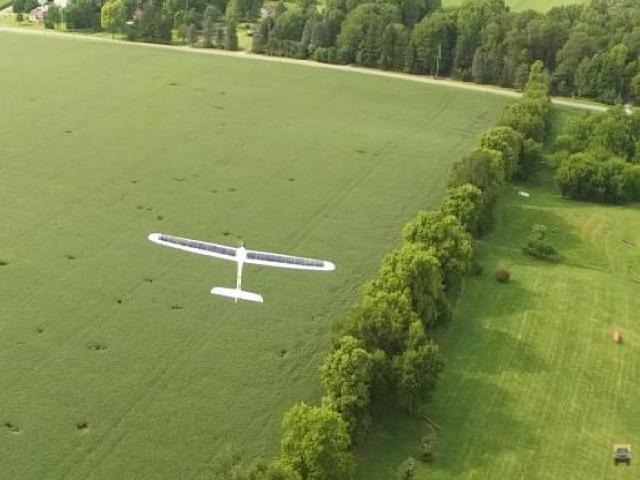uav: (142, 222, 342, 309)
